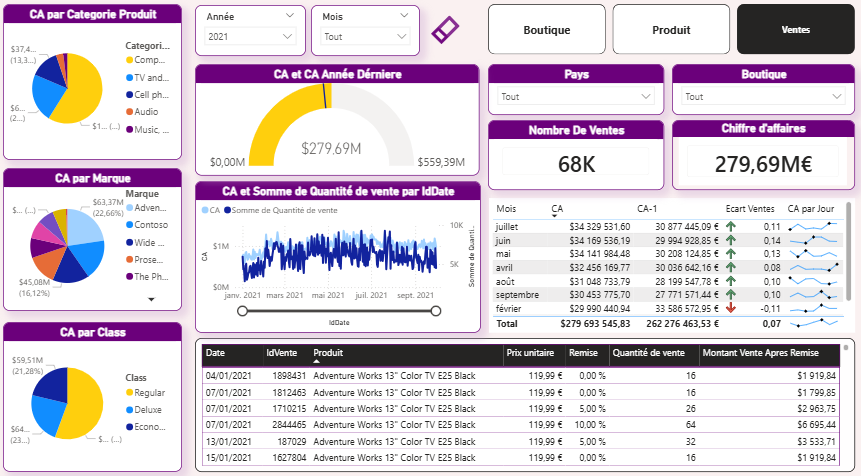

The dashboard page shown, as its layout file describes it:
{"tool":"powerbi","page":{"name":"Ventes","canvas":[1280,720],"ordinal":2},"visuals":[{"type":"pieChart","fields":{"Category":["Categorie Produits.Categorie Produit"],"Y":["Sales.CA"]},"box":[10.3,16.2,263,229.2],"z":0},{"type":"slicer","title":"Année","fields":{"Values":["DateTable.Année"]},"box":[292,17,162.5,75],"z":1000},{"type":"slicer","fields":{"Values":["DateTable.Mois"]},"box":[462.5,17,160.2,75],"z":2000},{"type":"pieChart","fields":{"Y":["Sales.CA"],"Category":["Produits.Marque"]},"box":[10.3,257.1,263,210.1],"z":3000},{"type":"pieChart","fields":{"Y":["Sales.CA"],"Category":["Produits.Class"]},"box":[10.3,483.4,263,220.4],"z":4000},{"type":"actionButton","box":[630.7,29.5,59.1,50],"z":5000},{"type":"slicer","title":"Pays","fields":{"Values":["Geographie.Pays"]},"box":[722.7,104.5,259.1,75],"z":6000},{"type":"slicer","title":"Boutique","fields":{"Values":["Boutiques.Boutique"]},"box":[993.2,104.5,269.3,75],"z":7000},{"type":"tableEx","fields":{"Values":["DateTable.Date","Sales.IdVente","Produits.Produit","Produits.Prix unitaire","Sales.Remise","Sales.Quantité de vente","Sales.Montant Vente Apres Remise"]},"box":[292.4,506.9,969.8,196.9],"z":8000},{"type":"lineChart","fields":{"Y":["Sales.CA"],"Y2":["Sum(Sales.Quantité de vente)"],"Category":["Sales.IdDate"]},"box":[292.4,276.2,420.2,223.3],"z":9000},{"type":"gauge","title":"CA et CA Année Dérniere","fields":{"Y":["Sales.CA"],"TargetValue":["Sales.CA-1"]},"box":[292,104.5,418.2,163.6],"z":10000},{"type":"tableEx","fields":{"Values":["DateTable.Mois","Sales.CA","Sales.CA-1","Sales.Ecart Ventes","SparklineData(Sales.CA_[DateTable.Jour])"]},"box":[724.4,301.2,537.8,198.4],"z":11000},{"type":"cardVisual","title":"Nombre De Ventes","fields":{"Data":["Sales.nb Ventes"]},"box":[722.9,186.6,258.6,102.9],"z":12000},{"type":"cardVisual","title":"Chiffre d''affaires","fields":{"Data":["Sales.CA"]},"box":[993.3,186.6,268.9,102.9],"z":13000},{"type":"pageNavigator","box":[722.9,16.2,539.3,74.9],"z":14000}]}

Visuals, with their boxes in screenshot pixels (x1, y1, x2, y2), scaled from the page's 1280x720 canvas onto the 861x476 screenshot:
pieChart - Categorie Produits.Categorie Produit x Sales.CA: Rect(7, 11, 184, 162)
"Année" slicer: Rect(196, 11, 306, 61)
slicer - DateTable.Mois: Rect(311, 11, 419, 61)
pieChart - Sales.CA x Produits.Marque: Rect(7, 170, 184, 309)
pieChart - Sales.CA x Produits.Class: Rect(7, 320, 184, 465)
actionButton: Rect(424, 20, 464, 53)
"Pays" slicer: Rect(486, 69, 660, 119)
"Boutique" slicer: Rect(668, 69, 849, 119)
tableEx - DateTable.Date x Sales.IdVente: Rect(197, 335, 849, 465)
lineChart - Sales.CA x Sum(Sales.Quantité de vente): Rect(197, 183, 479, 330)
"CA et CA Année Dérniere" gauge: Rect(196, 69, 478, 177)
tableEx - DateTable.Mois x Sales.CA: Rect(487, 199, 849, 330)
"Nombre De Ventes" cardVisual: Rect(486, 123, 660, 191)
"Chiffre d''affaires" cardVisual: Rect(668, 123, 849, 191)
pageNavigator: Rect(486, 11, 849, 60)
